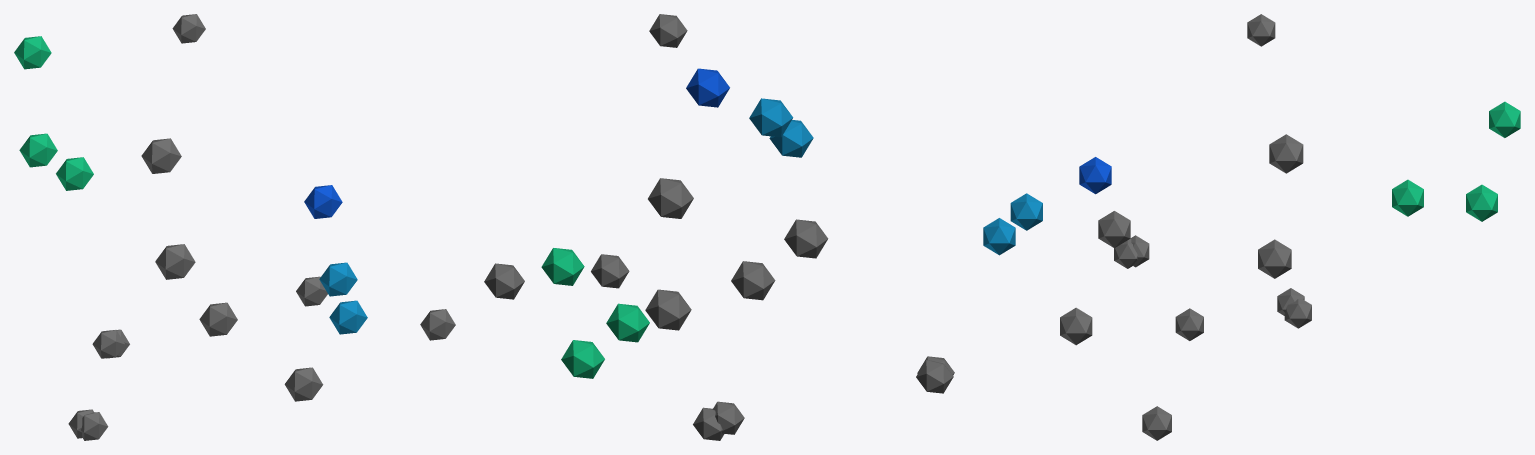
3 views of the same model, side by side, from view 1: azimuth 30°, elevation 25°; view 2: azimuth 150°, elevation 25°; view 3: azimuth 270°, elevation 25° (orthographic). The views are drawn at different scales.
Visible parts, largest first — view 1: 03_06_00; view 2: 03_06_00; view 3: 03_06_00.
Boxes of the visible parts, bbox=[...] form: 03_06_00: bbox=[14, 14, 455, 440]; 03_06_00: bbox=[484, 14, 954, 440]; 03_06_00: bbox=[983, 14, 1520, 440].
Size of the model in its own units: 0.4819 by 0.403 by 0.5866.
